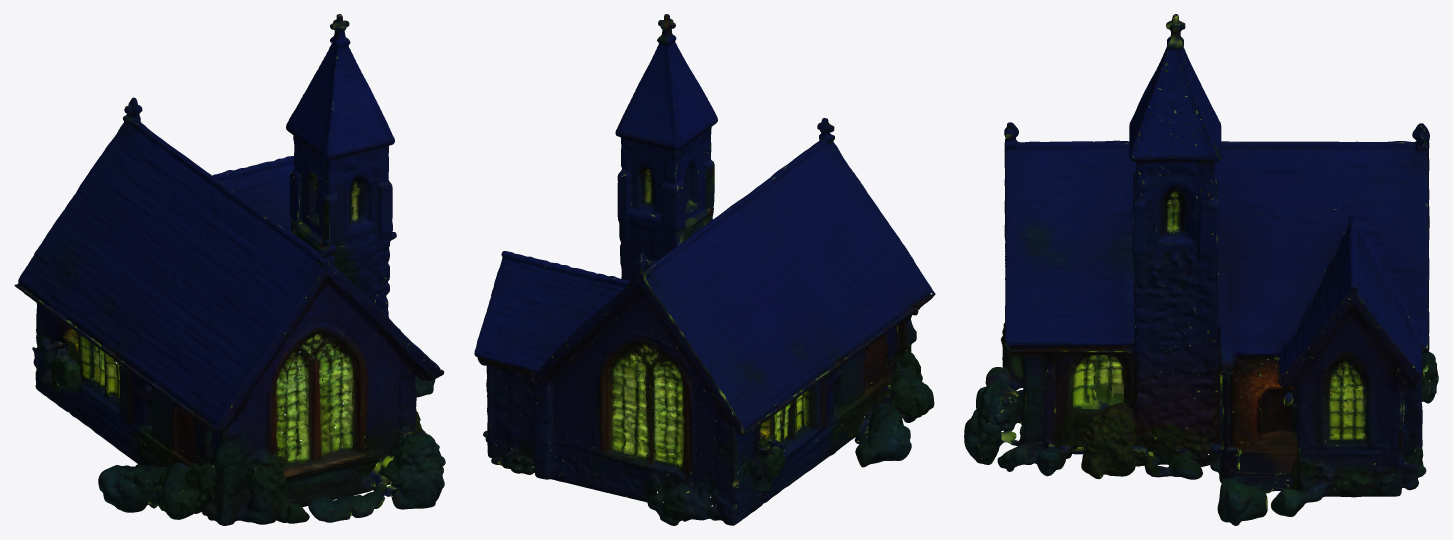
File: casatecnomago.glb
3 renders of one model, left to right at view 1: azimuth 30°, elevation 25°; view 2: azimuth 150°, elevation 25°; view 3: azimuth 270°, elevation 25°, orthographic. The views are drawn at different scales.
Visible parts, largest first — view 1: casatecnomago.obj; view 2: casatecnomago.obj; view 3: casatecnomago.obj.
Boxes of the visible parts, bbox=[...] form: casatecnomago.obj: bbox=[14, 14, 445, 525]; casatecnomago.obj: bbox=[474, 14, 935, 525]; casatecnomago.obj: bbox=[964, 14, 1438, 525].
Size of the model in its own units: 1.79 by 1.97 by 1.87.
Materials: 1 (1 with a texture image).
